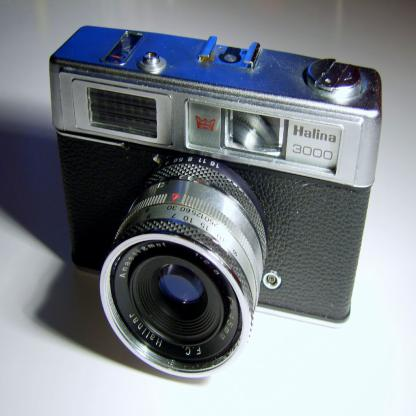Camera: (40, 25, 386, 379)
